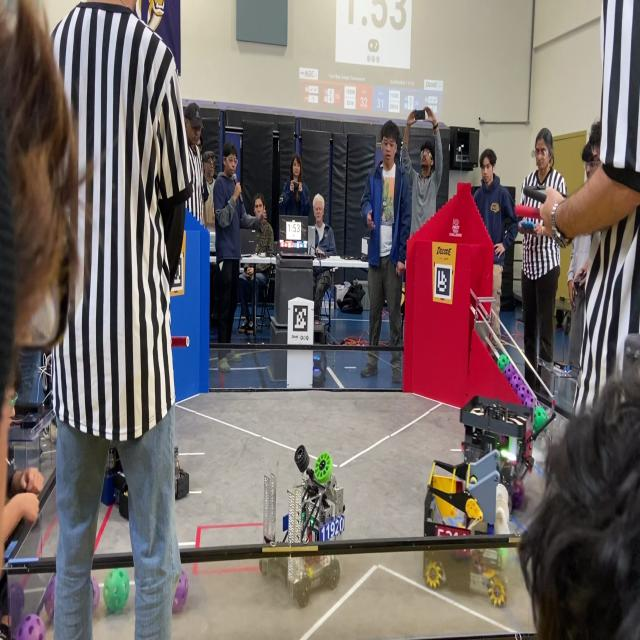artifact_green: (103, 569, 129, 612), (315, 453, 332, 484), (534, 405, 547, 431), (503, 364, 516, 384), (510, 373, 523, 392), (498, 354, 510, 372), (518, 386, 529, 404), (523, 393, 535, 408), (513, 385, 522, 397)
artifact_purple: (13, 614, 45, 639), (172, 571, 188, 613), (9, 582, 24, 625), (43, 575, 55, 621), (512, 478, 524, 510), (91, 577, 100, 615), (518, 386, 530, 405), (504, 364, 516, 382), (497, 354, 509, 372), (511, 374, 522, 389), (523, 394, 534, 408), (512, 385, 521, 397), (530, 393, 537, 408)
